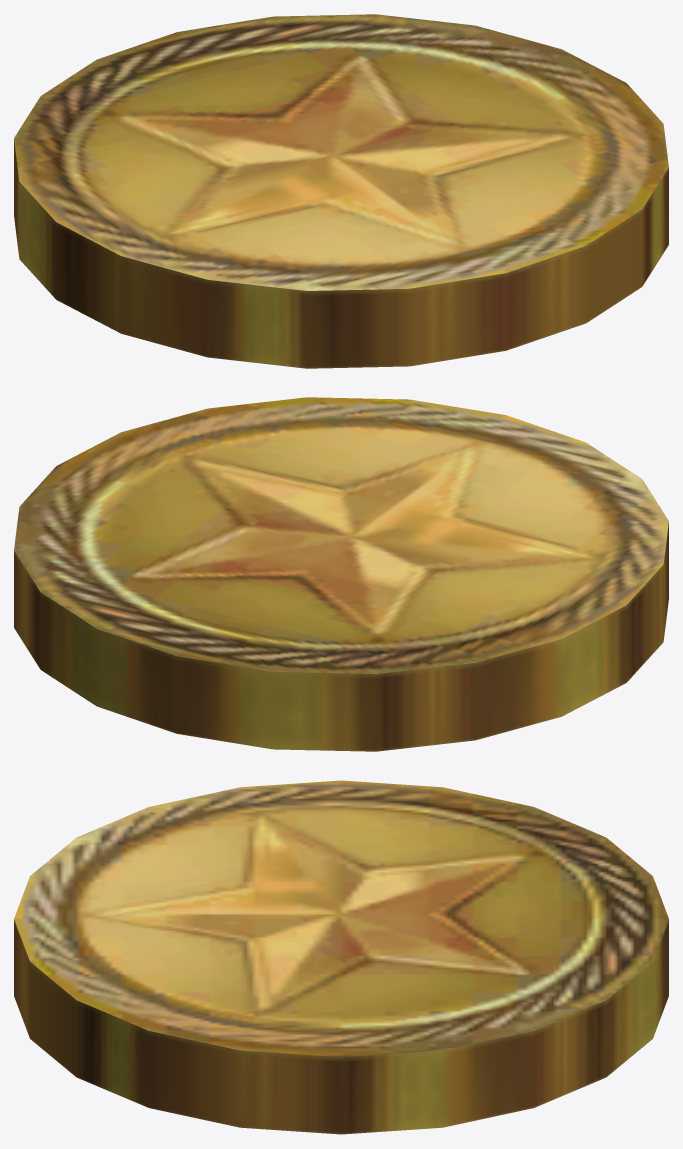
The model's file is StarCoinPrefab.fbx.
The picture shows the model from 3 angles, top to bottom: view 1: azimuth 30°, elevation 25°; view 2: azimuth 150°, elevation 25°; view 3: azimuth 270°, elevation 25°; orthographic projection.
Parts seen in each view (by area): view 1: StarCoinPrefab; view 2: StarCoinPrefab; view 3: StarCoinPrefab.
Boxes of the visible parts, <box> form: StarCoinPrefab: <box>14,14,668,368</box>; StarCoinPrefab: <box>14,397,668,751</box>; StarCoinPrefab: <box>14,780,668,1134</box>.
Bounding box in the file's own units: 0.0914 × 0.0119 × 0.0914.
1 material, 1 textured.
